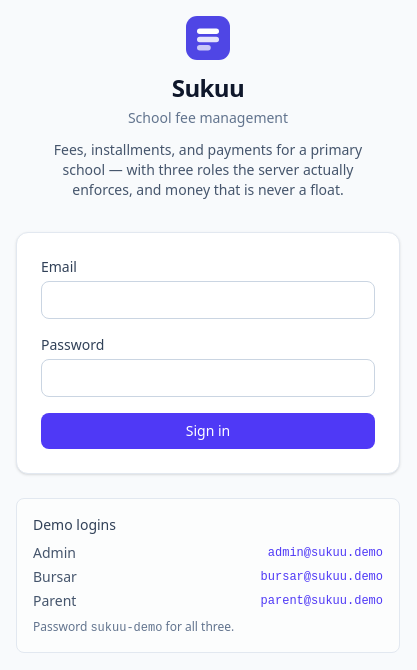
the demo logins › fills the form when one is clicked, so nobody has to type them
Click the button "parent@sukuu.demo". click: x=322, y=601
box: [261,593,383,609]
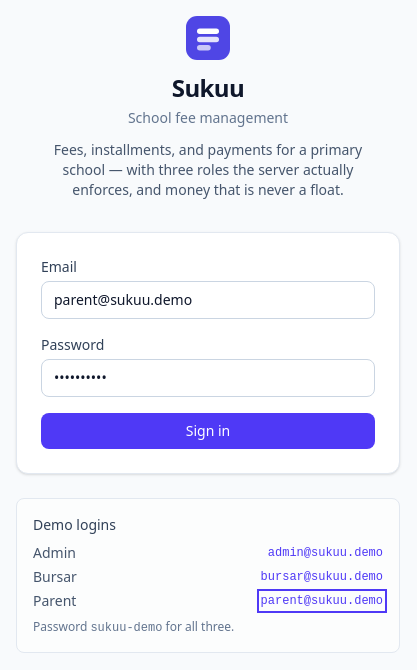
Expected: the field labelled "Email" holds "parent@sukuu.demo", [41,281,375,319]
Expected: the password field labelled "Password" holds "sukuu-demo", [41,359,375,397]
